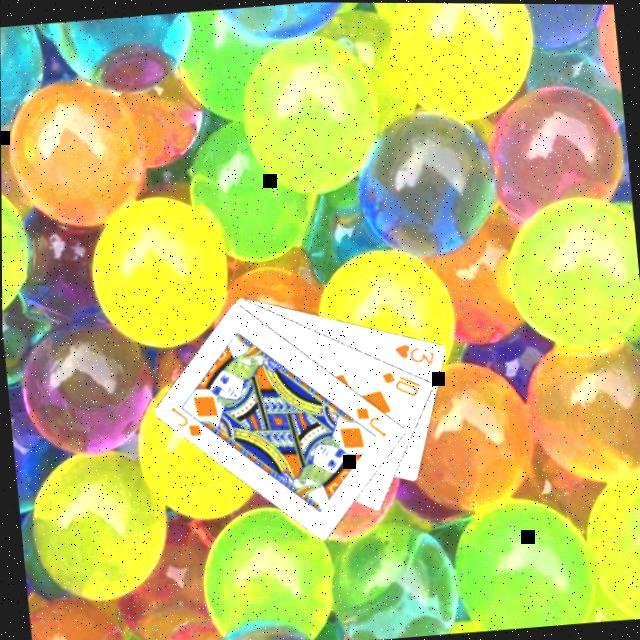10D: (376, 364, 423, 400)
3H: (389, 336, 437, 370)
JD: (164, 399, 203, 440), (350, 400, 388, 441)
